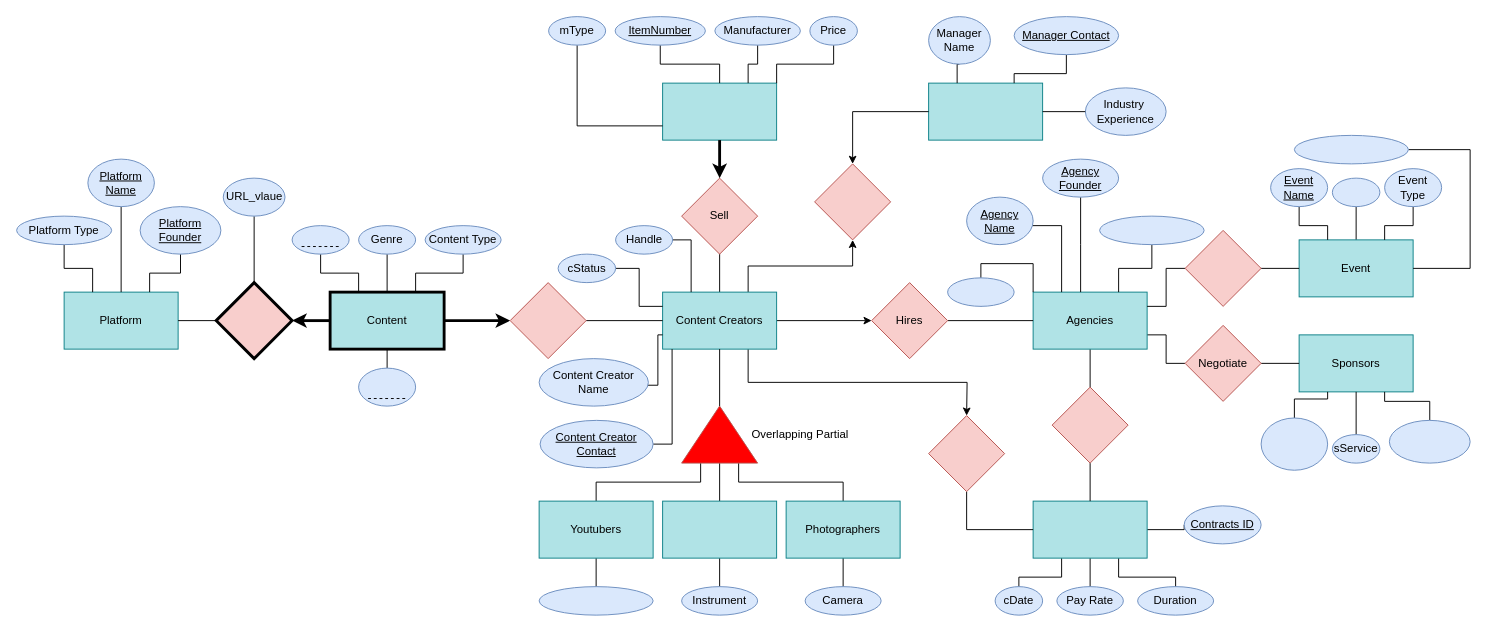
This 1488x632 diagram has some shape labels left out. The shapes that lost their labels are listed below. From the top down, each one's box as (x1, y1, x2, y2) in pixels, then its label:
(662, 82, 777, 140): Merchadise
(928, 82, 1043, 140): Managers
(1293, 134, 1408, 164): Participant Count
(814, 163, 891, 240): Assigned
(1331, 177, 1380, 207): eDate
(291, 225, 349, 254): Title
(1099, 215, 1204, 245): Employee Count
(1184, 229, 1261, 306): Host
(947, 277, 1014, 306): Location
(214, 281, 293, 360): FoundOn
(509, 282, 586, 359): Create
(358, 367, 416, 406): Content ID
(681, 405, 758, 463): ISA
(1051, 386, 1128, 463): Offer
(1260, 417, 1328, 470): Sponsors Name
(1388, 419, 1470, 463): Company Name
(928, 415, 1005, 492): Accept
(662, 500, 777, 558): Musicians
(1032, 500, 1147, 558): Contracts
(538, 586, 653, 615): Subscriber Count
